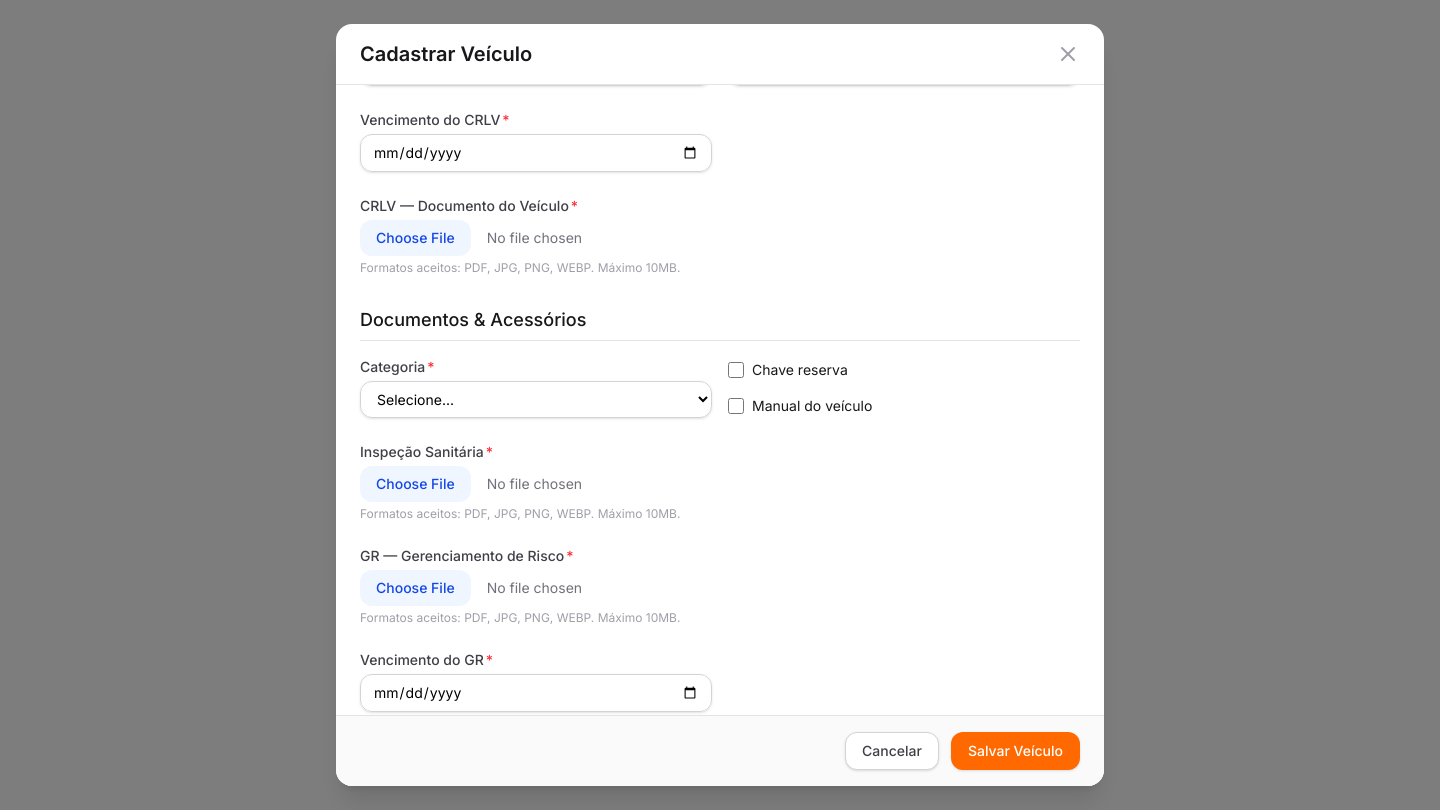
Test: VehicleForm › hides implement-only restricted fields and keeps pbt/eixos visible
(page scrolled)
Select "Semi-reboque/Implemento" in the dropdown named "category". click: (536, 400)
box: [360, 381, 712, 418]
(page scrolled)
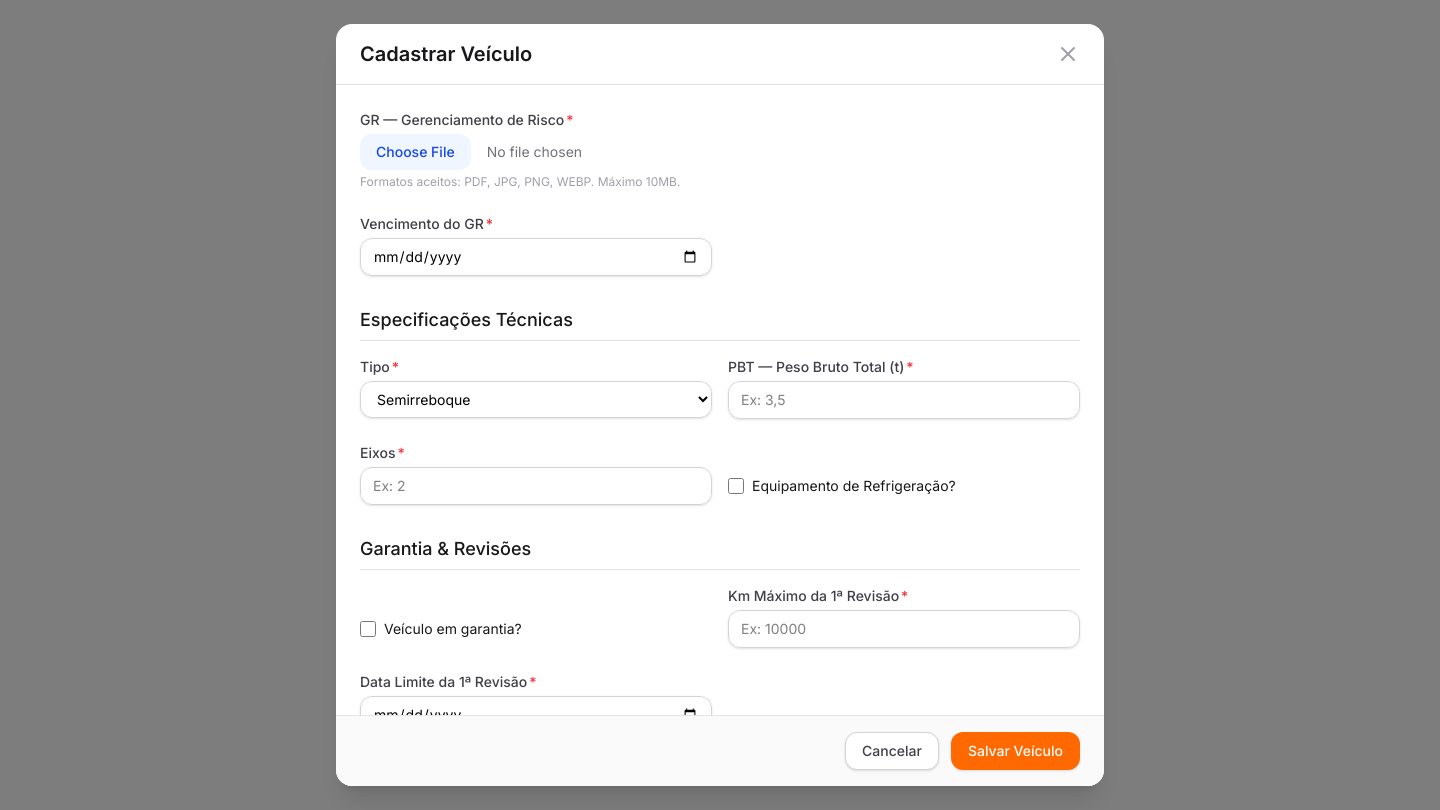
Result: the dropdown named "type" shows "Semirreboque" at [360, 381, 712, 418]
